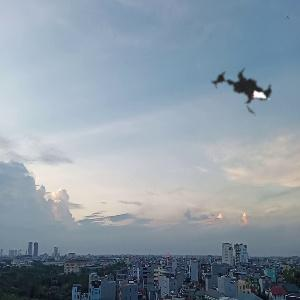drone: (194, 45, 290, 141)
